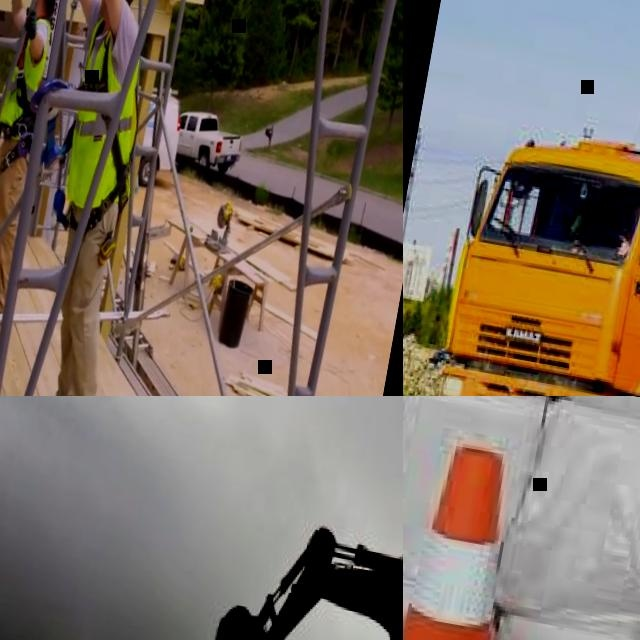Person: (0, 0, 194, 396), (0, 0, 65, 328), (618, 206, 640, 264)
Safety Cone: (403, 423, 598, 640)
Safety Vest: (60, 13, 158, 215), (0, 13, 53, 138)
machinery: (403, 104, 640, 396), (187, 512, 403, 640)
vehicle: (117, 82, 187, 191), (171, 107, 245, 174), (428, 347, 452, 365)
